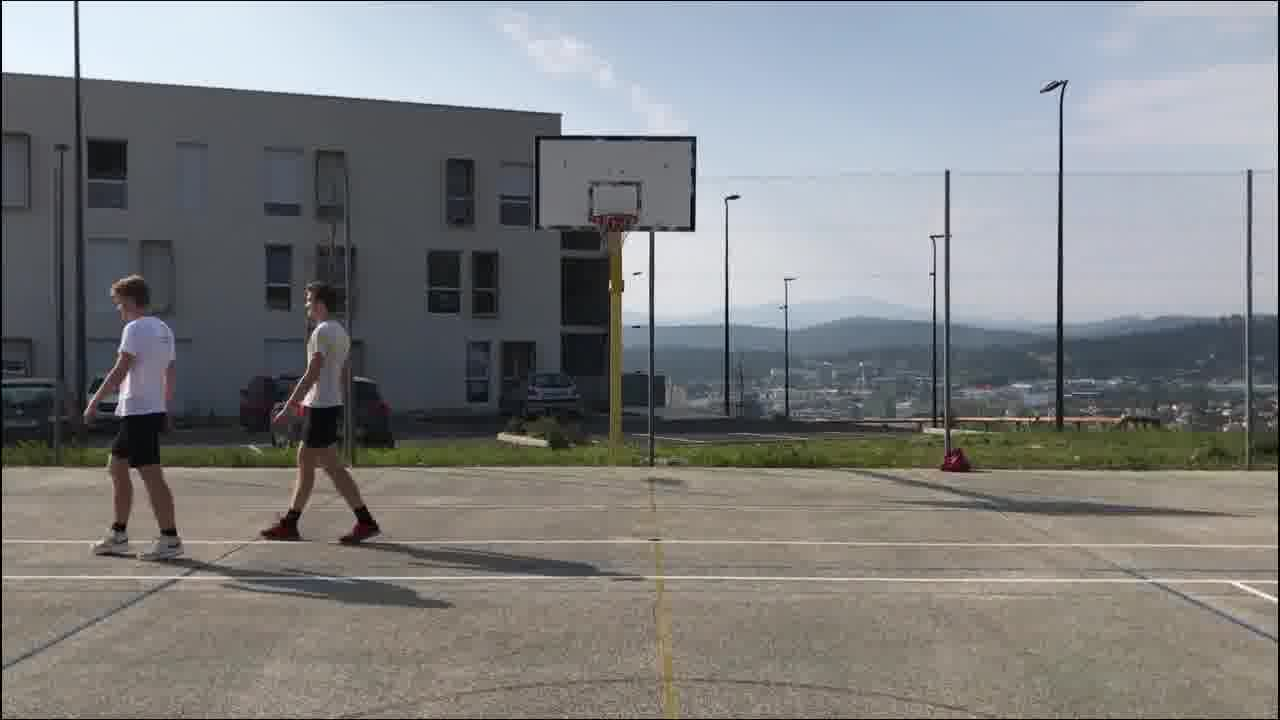jugador: (251, 270, 391, 554)
